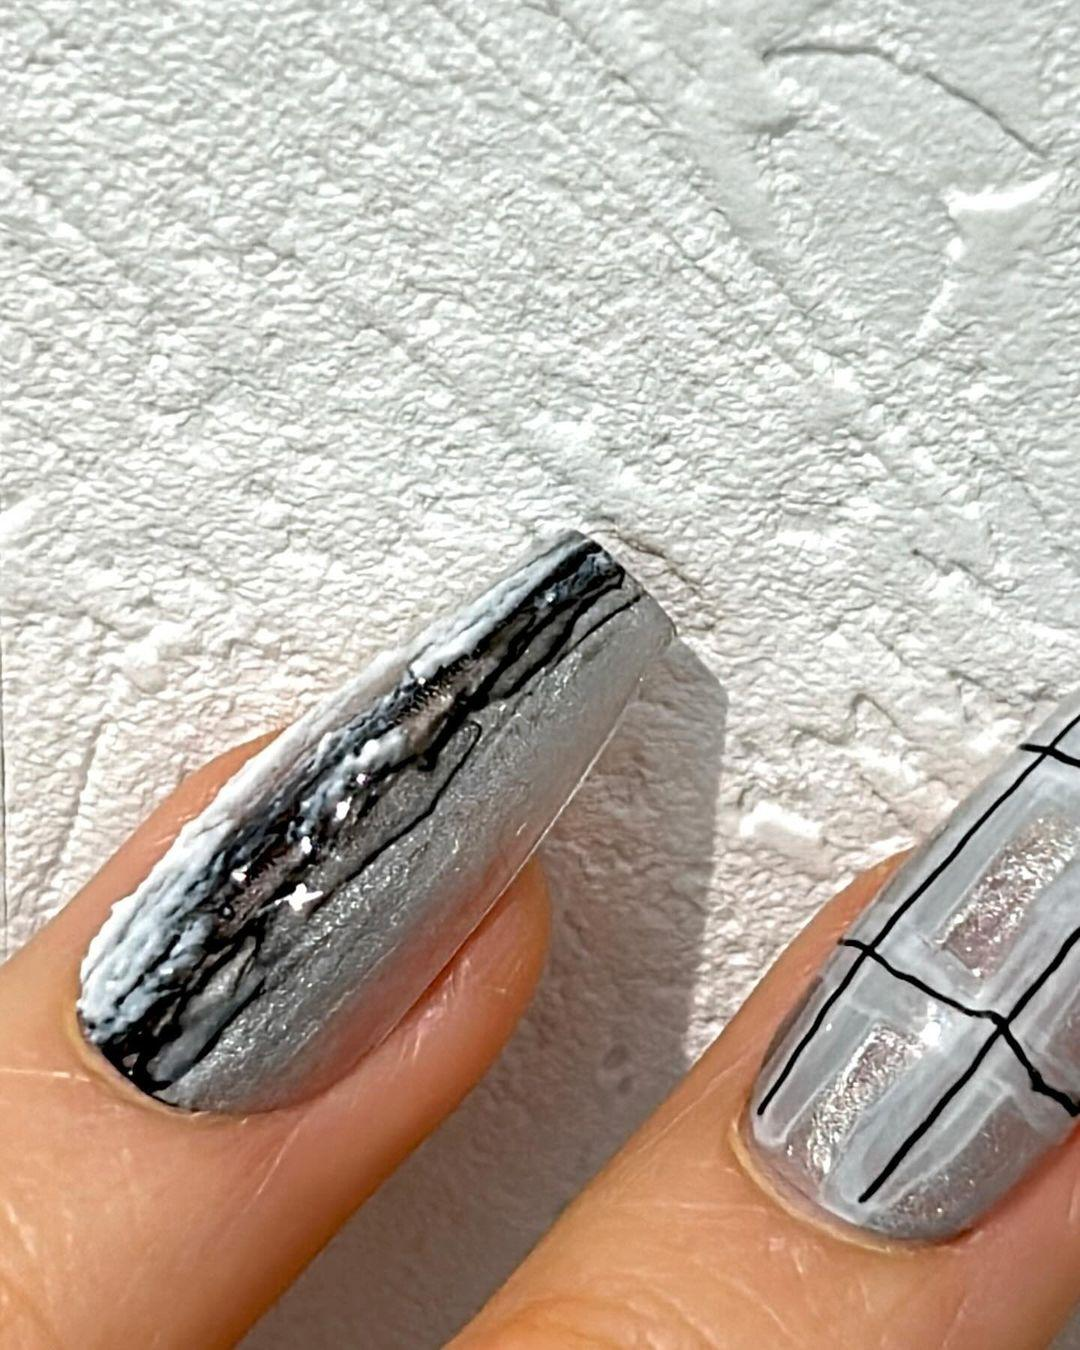nail: (72, 524, 677, 1119), (729, 684, 1078, 1250)
